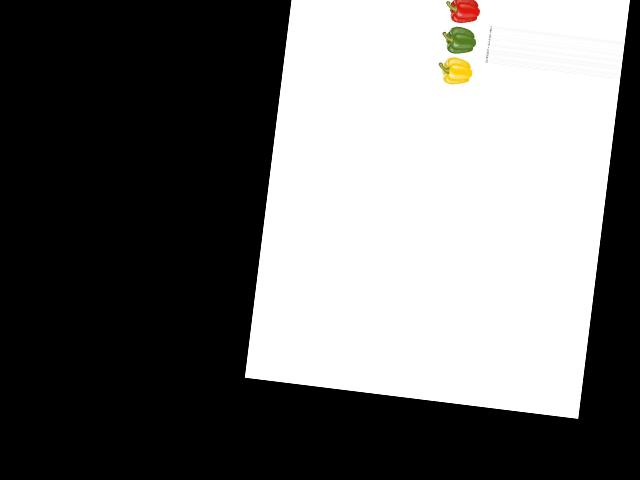bell_pepper: (437, 53, 476, 88)
